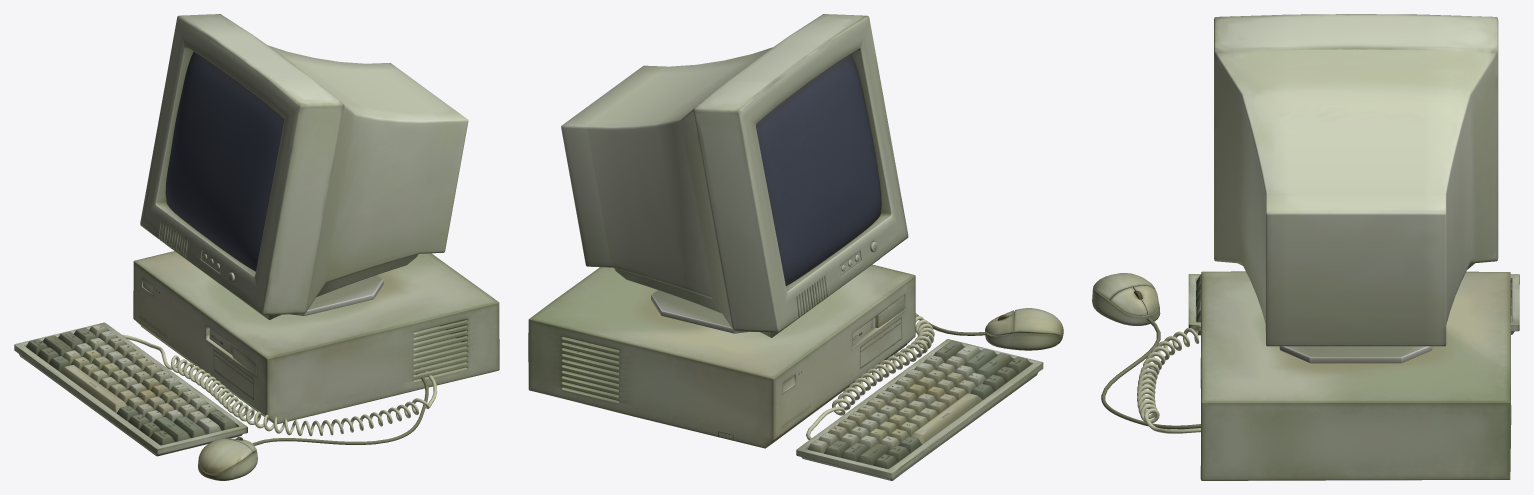
File: Retro_blender.glb
3 renders of one model, left to right at view 1: azimuth 30°, elevation 25°; view 2: azimuth 150°, elevation 25°; view 3: azimuth 270°, elevation 25°, orthographic. The views are drawn at different scales.
Visible parts, largest first — view 1: Cube.049_4, Cube.055_9, Cube.054_8, Plane.020_16, Cube.045_14, Circle.002_2, Cube.053_7, Plane.022_19, object 1, Plane.023_20; view 2: Cube.049_4, Cube.055_9, Cube.054_8, Plane.020_16, Cube.045_14, Circle.002_2, Cube.053_7, Plane.023_20, Plane.022_19; view 3: Cube.049_4, Cube.055_9, Cube.053_7, Circle.002_2, Plane.021_18, Cube.045_14, Plane.023_20, object 1, Plane.022_19.
Part boxes in pixels (<box>): Cube.049_4: <box>140,14,468,319</box>; Cube.055_9: <box>133,251,499,424</box>; Cube.054_8: <box>165,51,284,271</box>; Plane.020_16: <box>26,324,237,445</box>; Cube.045_14: <box>14,322,247,456</box>; Circle.002_2: <box>122,334,437,436</box>; Cube.053_7: <box>291,275,383,315</box>; Plane.022_19: <box>198,438,252,473</box>; object 1: <box>252,369,428,445</box>; Plane.023_20: <box>198,450,257,480</box>; Cube.049_4: <box>561,14,908,337</box>; Cube.055_9: <box>528,264,915,448</box>; Cube.054_8: <box>756,54,881,285</box>; Plane.020_16: <box>807,341,1031,468</box>; Cube.045_14: <box>796,339,1043,480</box>; Circle.002_2: <box>806,313,934,439</box>; Cube.053_7: <box>651,290,748,333</box>; Plane.023_20: <box>985,330,1063,350</box>; Plane.022_19: <box>1014,308,1063,335</box>; Cube.049_4: <box>1214,14,1498,346</box>; Cube.055_9: <box>1200,271,1511,480</box>; Cube.053_7: <box>1279,346,1432,363</box>; Circle.002_2: <box>1137,325,1200,433</box>; Plane.021_18: <box>1110,285,1158,315</box>; Cube.045_14: <box>1188,274,1519,335</box>; Plane.023_20: <box>1092,287,1160,325</box>; object 1: <box>1101,317,1200,429</box>; Plane.022_19: <box>1093,273,1155,300</box>.
Bounding box in the file's own units: 6.89 × 5.93 × 6.35.
Materials: 7 (5 with a texture image).
